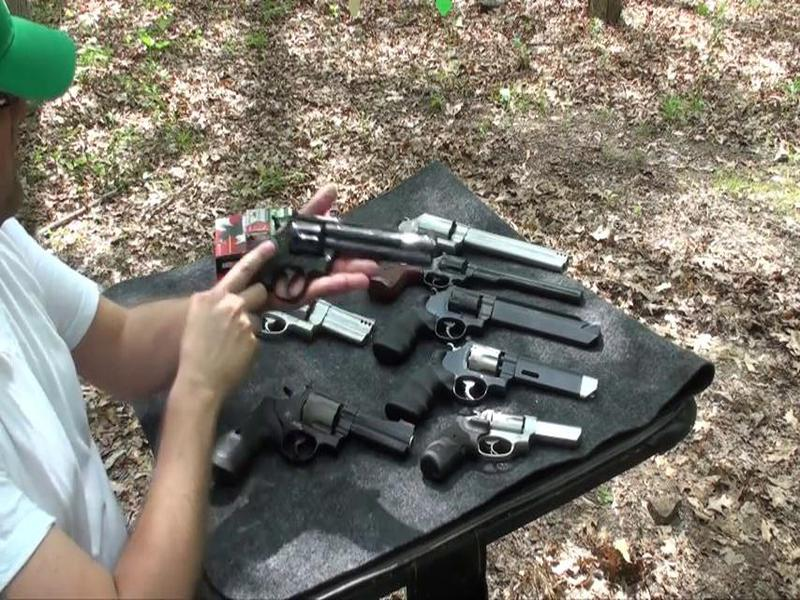Revolver: (187, 206, 445, 331)
